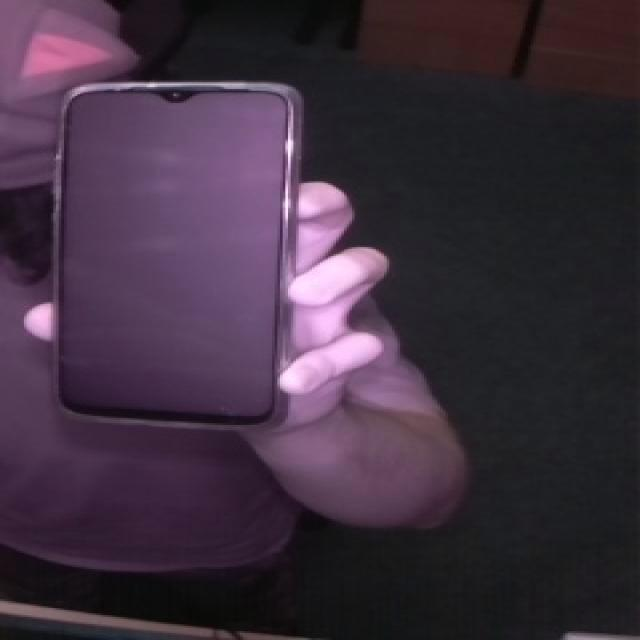phone: (36, 64, 340, 448)
